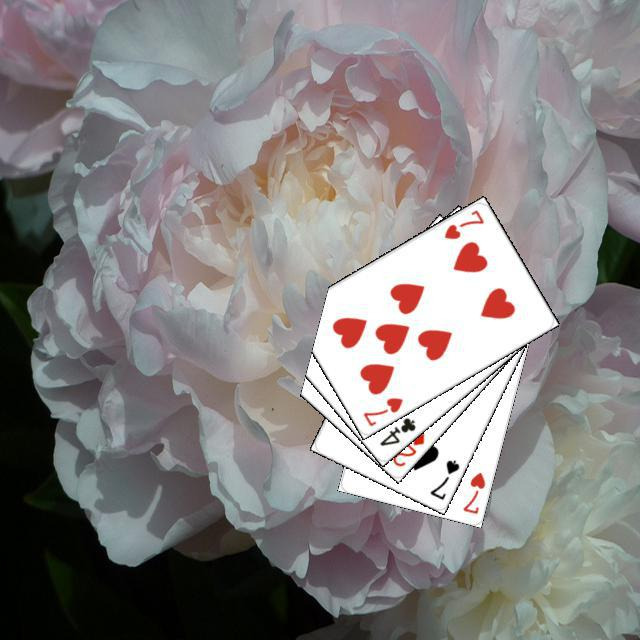2d: (387, 428, 426, 468)
4c: (374, 412, 417, 448)
7h: (358, 392, 405, 428), (439, 205, 486, 241), (458, 467, 487, 516)
7s: (425, 455, 461, 501)
